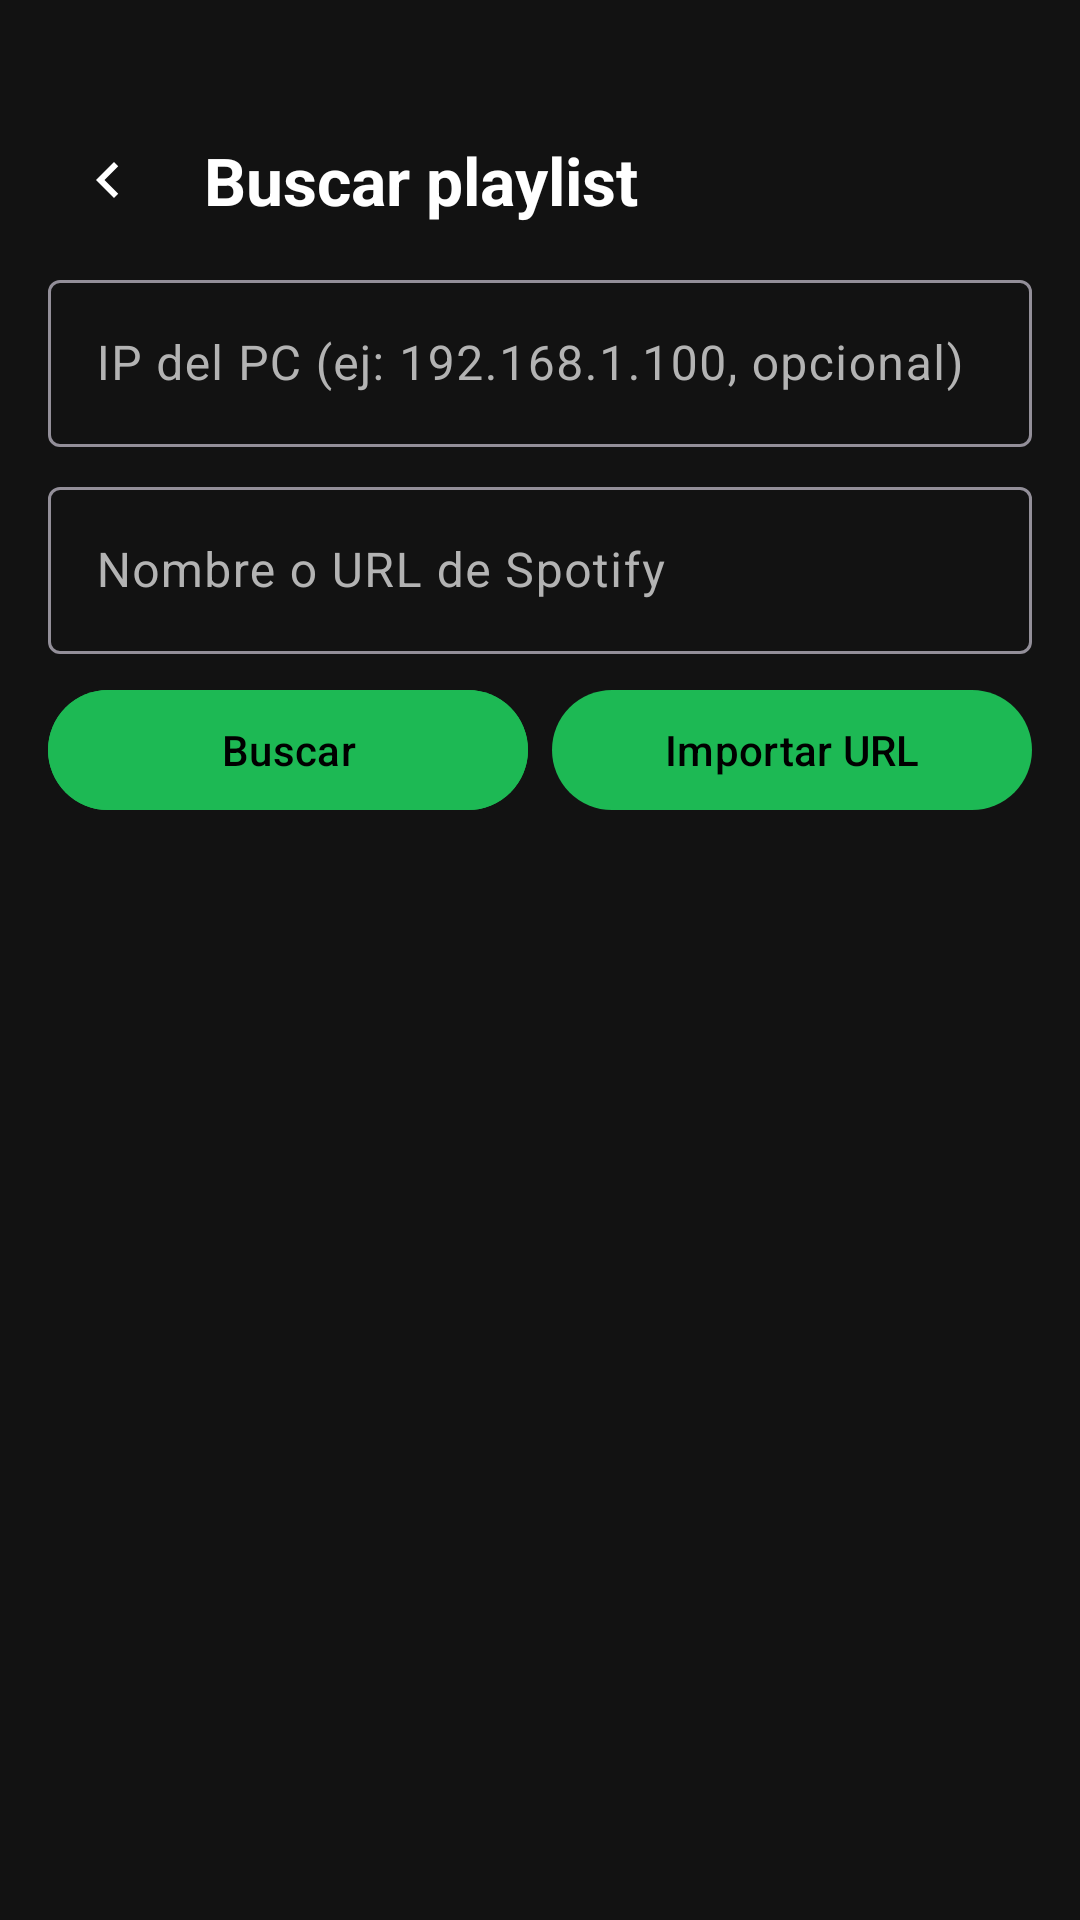

Icon bounding boxes for this 1080w x 1920h phone screenshot, format (x1, y1, x2, y2):
Atrás: (96, 162, 118, 198)
